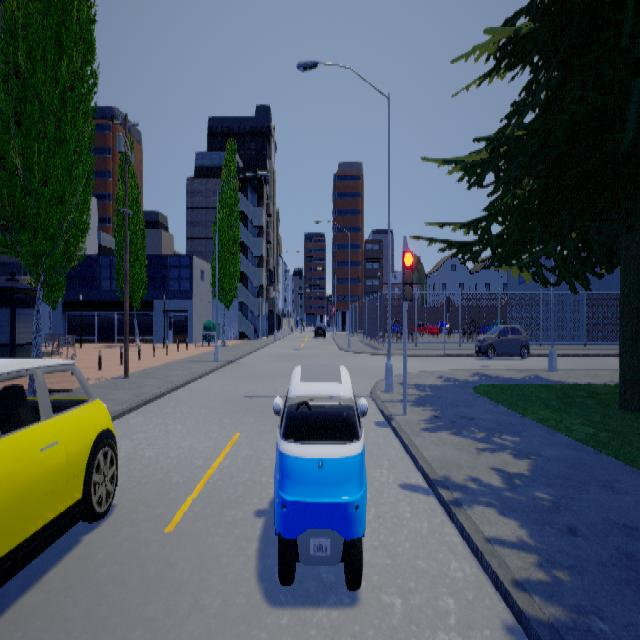red_light: (401, 239, 412, 310)
vehicle: (0, 357, 117, 586), (272, 362, 367, 590), (474, 320, 529, 357), (312, 320, 326, 340)
